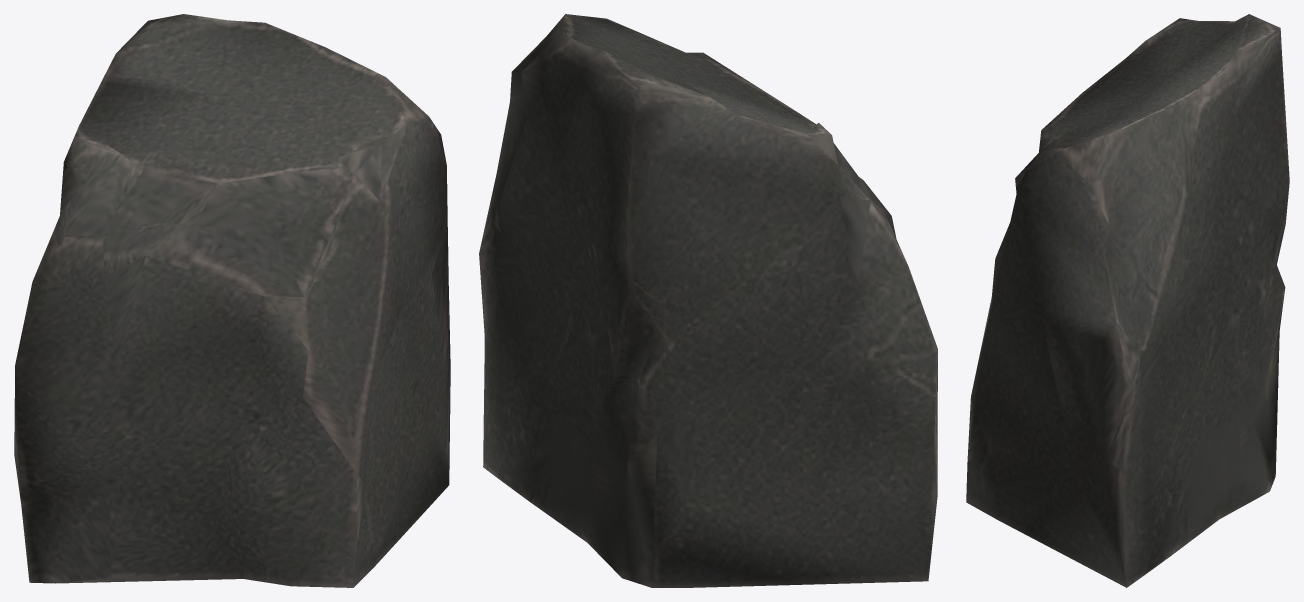
Rendered from cliff_stone_tall.gltf.
3 renders of one model, left to right at view 1: azimuth 30°, elevation 25°; view 2: azimuth 150°, elevation 25°; view 3: azimuth 270°, elevation 25°, orthographic. The views are drawn at different scales.
Visible parts, largest first — view 1: cliff_stone_tall; view 2: cliff_stone_tall; view 3: cliff_stone_tall.
Part boxes in pixels (bbox=[...]): cliff_stone_tall: bbox=[14, 14, 450, 587]; cliff_stone_tall: bbox=[479, 14, 937, 587]; cliff_stone_tall: bbox=[966, 14, 1289, 587].
Size of the model in its own units: 1.44 by 1.5 by 0.96.
1 material, 1 textured.
